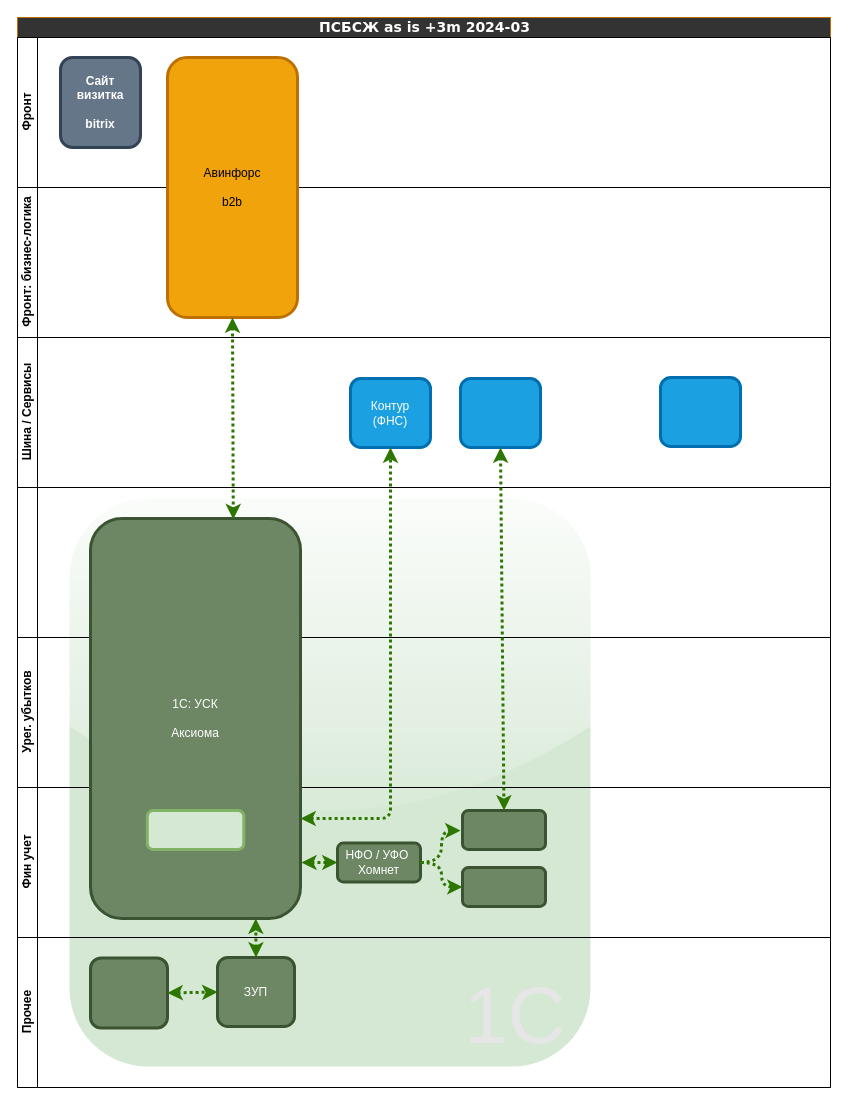
Image size: 848x1105. Some labels were removed from this diagram. Each missing label, with the centre of its shape:
781-П Хомнет: (x=503, y=887)
Picosoft (ЦБ): (x=500, y=412)
XBRL Хомнет: (x=503, y=829)
Опер учет: (x=423, y=562)
Почтовик: (x=700, y=412)
Ф-162 / XBRL ИП Тарасов: (x=195, y=829)
ЭДО: (x=128, y=992)
